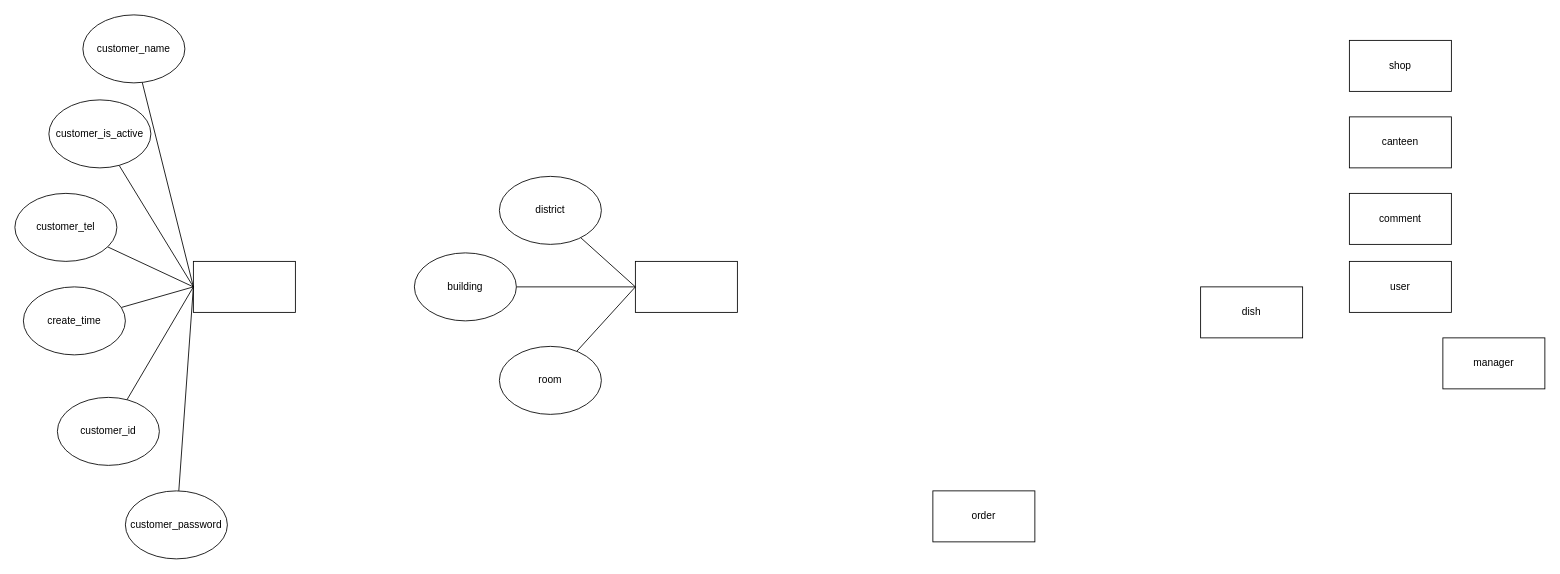
This 1560x574 diagram has some shape labels left out. Each missing label, with the centre of its shape:
"address" belongs at point (686, 286).
"customer" belongs at point (244, 286).
